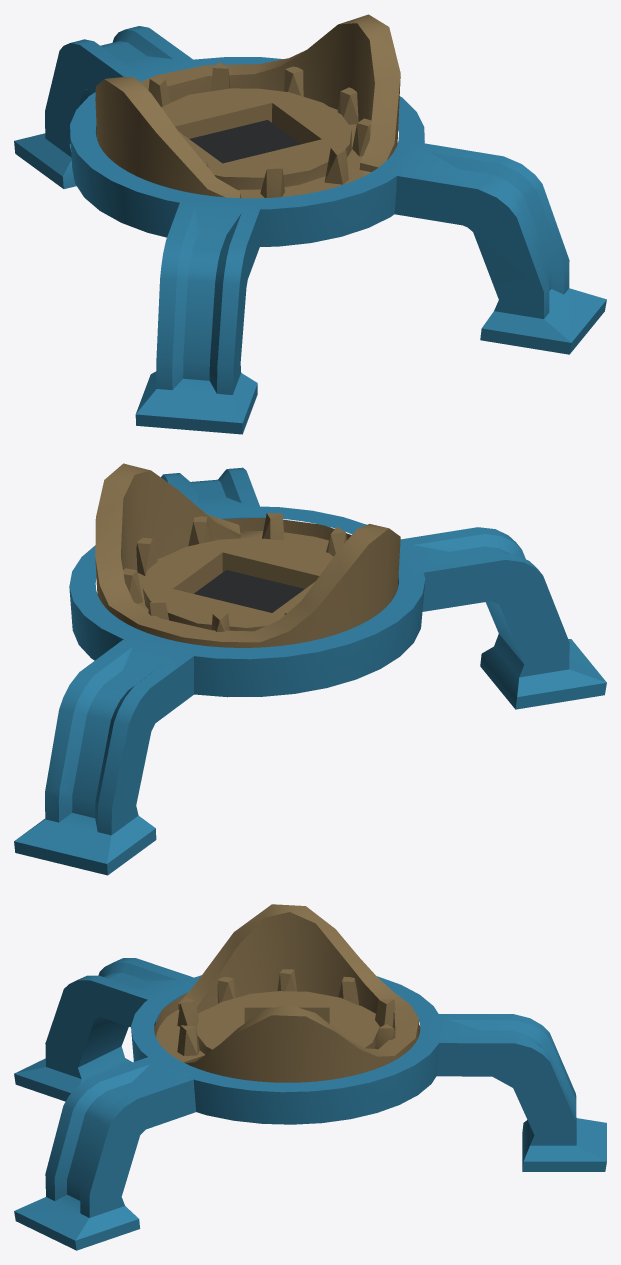
Rendered from fast-inserter.glb.
The picture shows the model from 3 angles, top to bottom: view 1: azimuth 30°, elevation 25°; view 2: azimuth 150°, elevation 25°; view 3: azimuth 270°, elevation 25°; orthographic projection. The views are drawn at different scales.
Visible parts, largest first — view 1: body; view 2: body; view 3: body.
Boxes of the visible parts, <box> form: body: <box>14,14,606,434</box>; body: <box>14,463,606,875</box>; body: <box>14,904,606,1250</box>.
Bounding box in the file's own units: 0.9048 × 0.4168 × 1.15.
